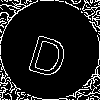D: (25, 25, 73, 79)
